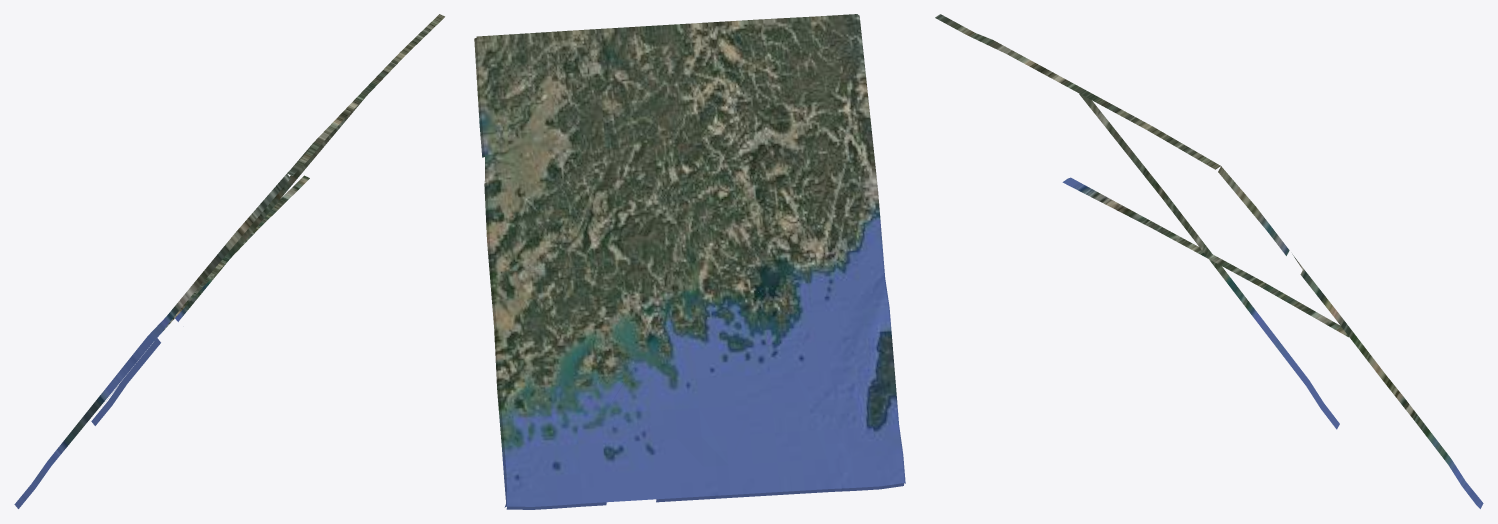
The picture shows the model from 3 angles, left to right: view 1: azimuth 30°, elevation 25°; view 2: azimuth 150°, elevation 25°; view 3: azimuth 270°, elevation 25°; orthographic projection. The views are drawn at different scales.
Bounding box in the file's own units: 316369 × 260407 × 303289.
1 material, 1 textured.
